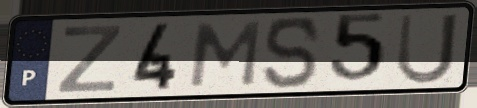4: (129, 21, 180, 93)
5: (327, 11, 389, 90)
M: (186, 19, 264, 89)
S: (262, 14, 323, 92)
U: (394, 11, 461, 87)
Z: (53, 22, 125, 95)
